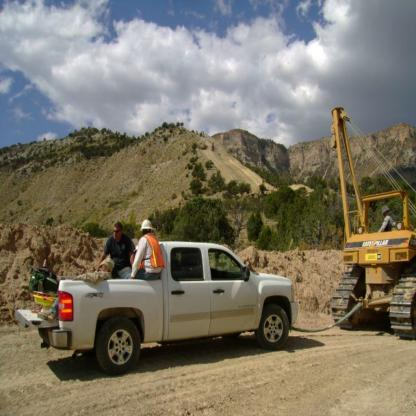Car: (44, 241, 303, 375)
Truck: (32, 238, 301, 374)
